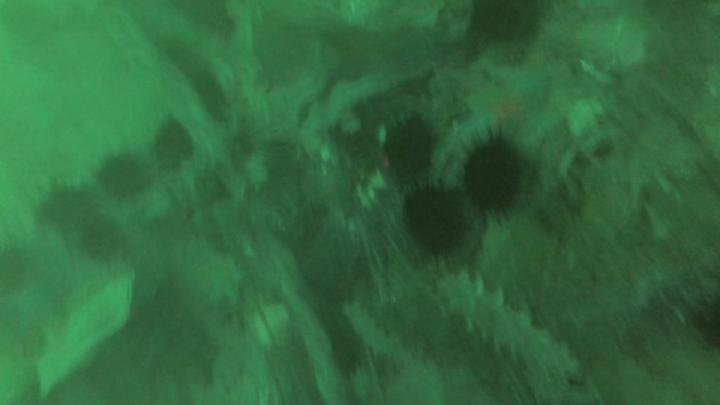echinus: (463, 144, 526, 212), (403, 188, 468, 251), (386, 122, 435, 176), (41, 189, 92, 230), (99, 157, 147, 198), (152, 124, 193, 168), (84, 220, 120, 259)
holothurian: (439, 275, 579, 379)
starfish: (461, 78, 553, 138)
